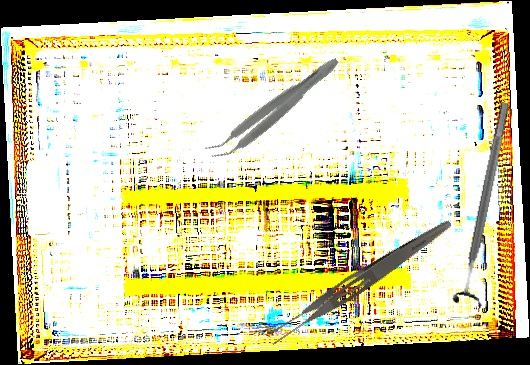Dressing Forceps: (263, 210, 456, 351)
Fixation Ring: (450, 99, 522, 309)
Tissue Forceps: (204, 48, 344, 168)
